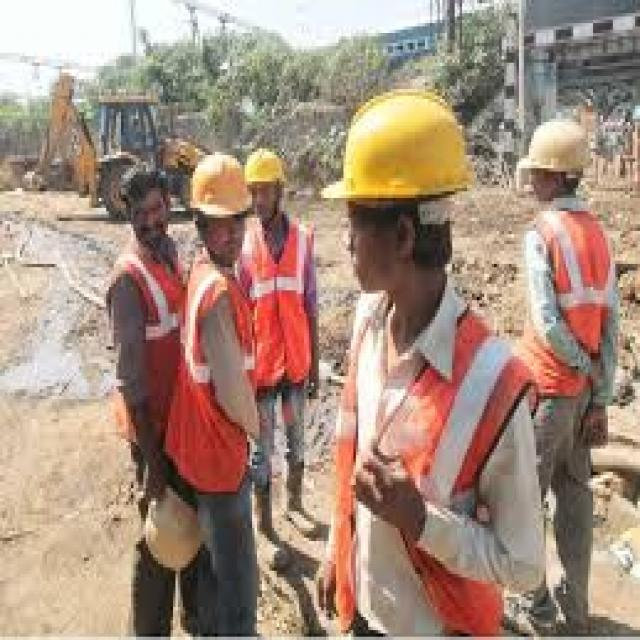Reflective-Jacket: (336, 294, 536, 636), (517, 198, 625, 419), (170, 251, 262, 498), (99, 231, 193, 435), (244, 218, 318, 396)
Safety-Helmet: (319, 79, 487, 221), (511, 102, 603, 192), (130, 492, 210, 582), (180, 145, 254, 231), (240, 139, 294, 201)
